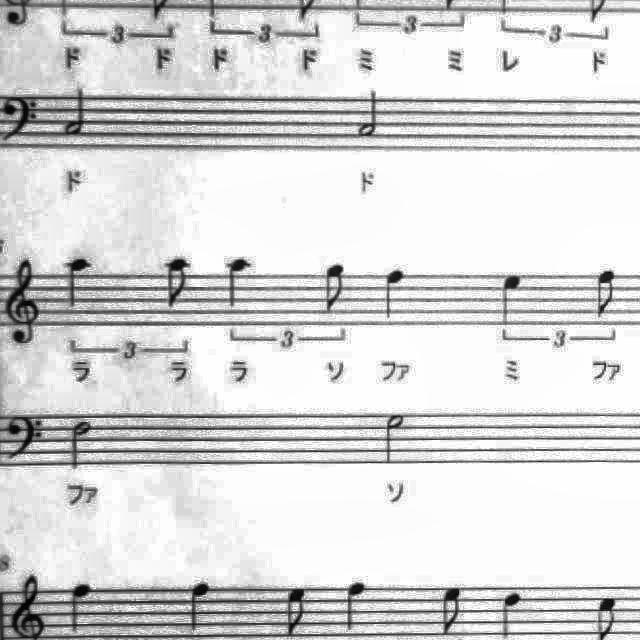Bass-clef: (0, 409, 48, 466), (0, 91, 42, 150)
Eighth-note: (314, 256, 354, 320), (160, 252, 200, 316), (589, 262, 627, 322), (277, 583, 314, 640), (436, 582, 472, 640), (590, 590, 626, 638)
Half-note: (63, 415, 99, 475), (58, 83, 94, 141), (352, 86, 386, 144), (380, 408, 412, 468)
Quarter-note: (495, 266, 533, 338), (60, 251, 98, 317), (375, 261, 413, 325), (220, 250, 258, 314), (184, 576, 220, 636), (64, 576, 100, 636), (338, 577, 374, 635), (491, 587, 529, 640)
Treble-clef: (0, 252, 48, 350)
